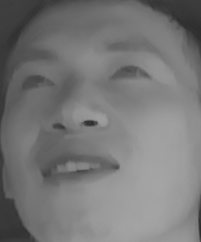eye: (107, 57, 152, 94), (16, 69, 58, 99)
mouth: (34, 145, 123, 189)
